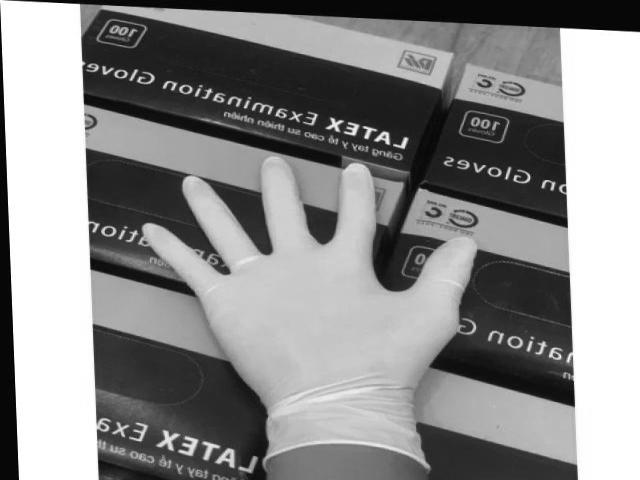gloved: (138, 156, 478, 388)
